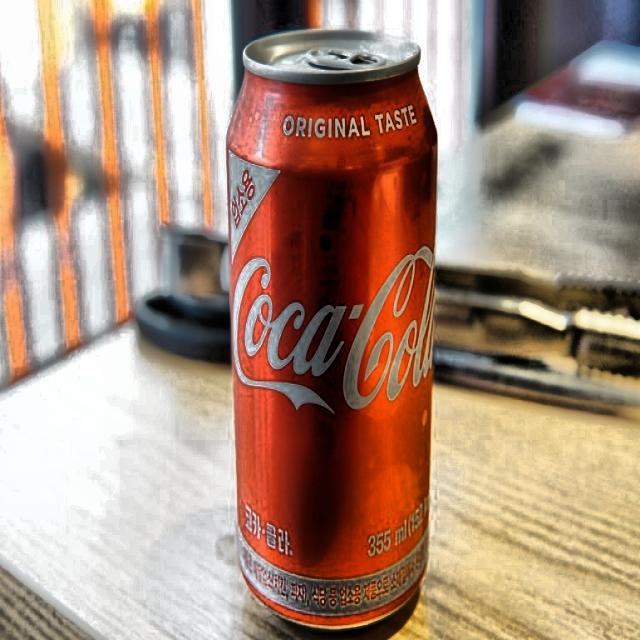cocacola: (225, 35, 441, 638)
